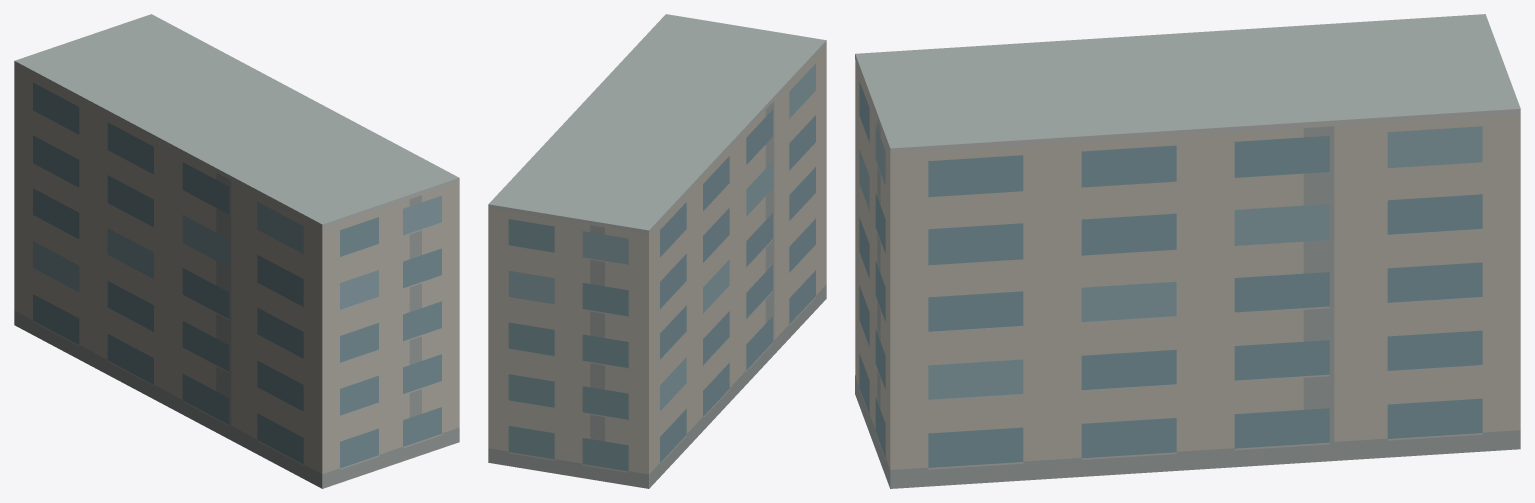
The model's file is survey-upis-32577541.glb.
The picture shows the model from 3 angles, left to right: view 1: azimuth 30°, elevation 25°; view 2: azimuth 150°, elevation 25°; view 3: azimuth 270°, elevation 25°; orthographic projection. The views are drawn at different scales.
Parts seen in each view (by area): view 1: survey-upis-32577541.tmp; view 2: survey-upis-32577541.tmp; view 3: survey-upis-32577541.tmp.
Boxes of the visible parts, box(x1,y1,x2,y2) form: survey-upis-32577541.tmp: box(14, 14, 459, 488); survey-upis-32577541.tmp: box(488, 14, 826, 488); survey-upis-32577541.tmp: box(855, 14, 1520, 488).
Size of the model in its own units: 12.25 by 14.45 by 25.62.
